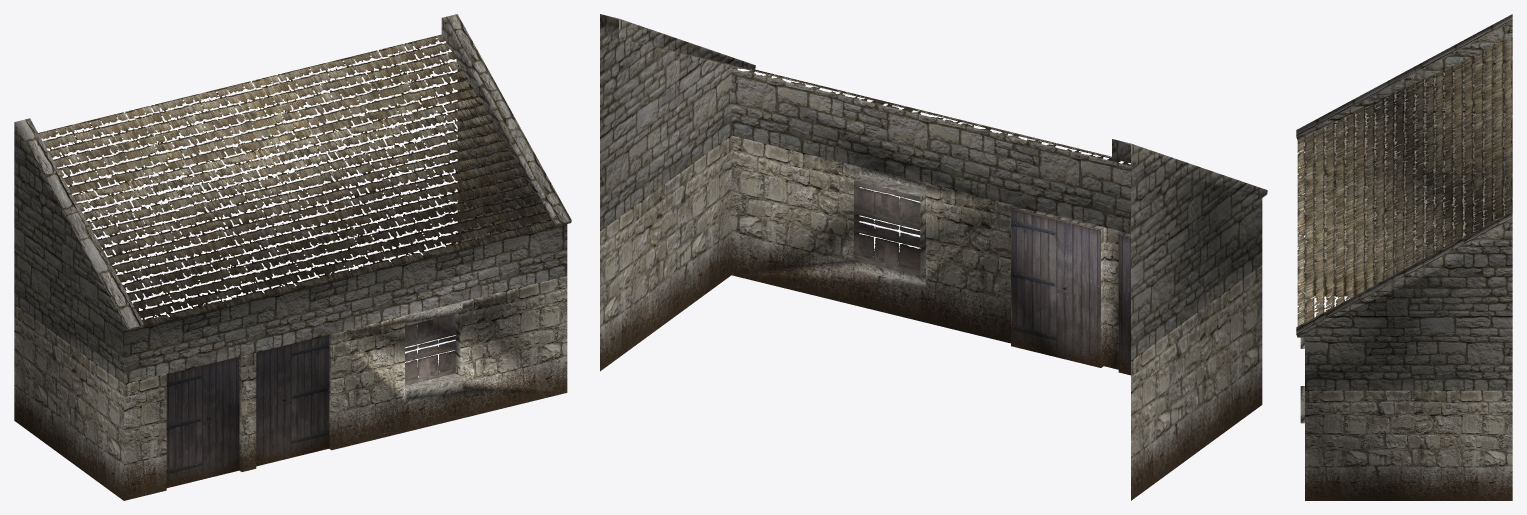
The model's file is poorlords_shed.FBX.
3 renders of one model, left to right at view 1: azimuth 30°, elevation 25°; view 2: azimuth 150°, elevation 25°; view 3: azimuth 270°, elevation 25°, orthographic. The views are drawn at different scales.
Visible parts, largest first — view 1: Poorlords_shed_; view 2: Poorlords_shed_; view 3: Poorlords_shed_.
Boxes of the visible parts, x1=… form: Poorlords_shed_: x1=14, y1=14, x2=571, y2=500; Poorlords_shed_: x1=600, y1=14, x2=1267, y2=500; Poorlords_shed_: x1=1296, y1=14, x2=1512, y2=500.
Size of the model in its own units: 896 by 400 by 577.
